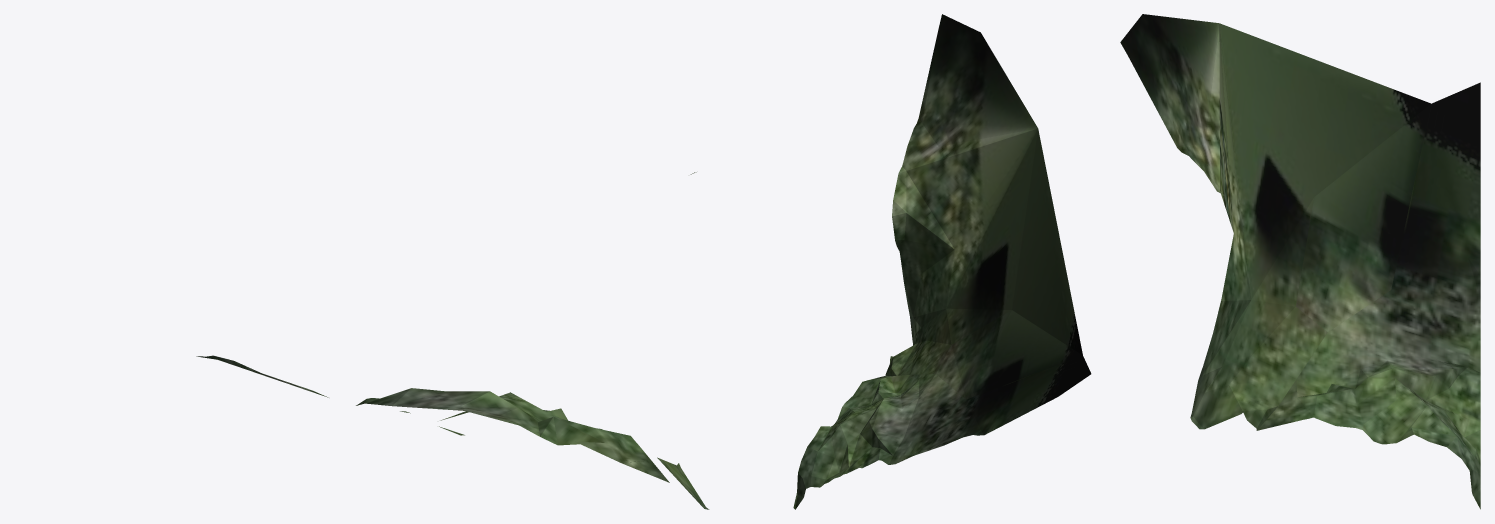
3 views of the same model, side by side, from view 1: azimuth 30°, elevation 25°; view 2: azimuth 150°, elevation 25°; view 3: azimuth 270°, elevation 25° (orthographic). The views are drawn at different scales.
Size of the model in its own units: 3.57 by 4.42 by 3.08.
Materials: 1 (1 with a texture image).
